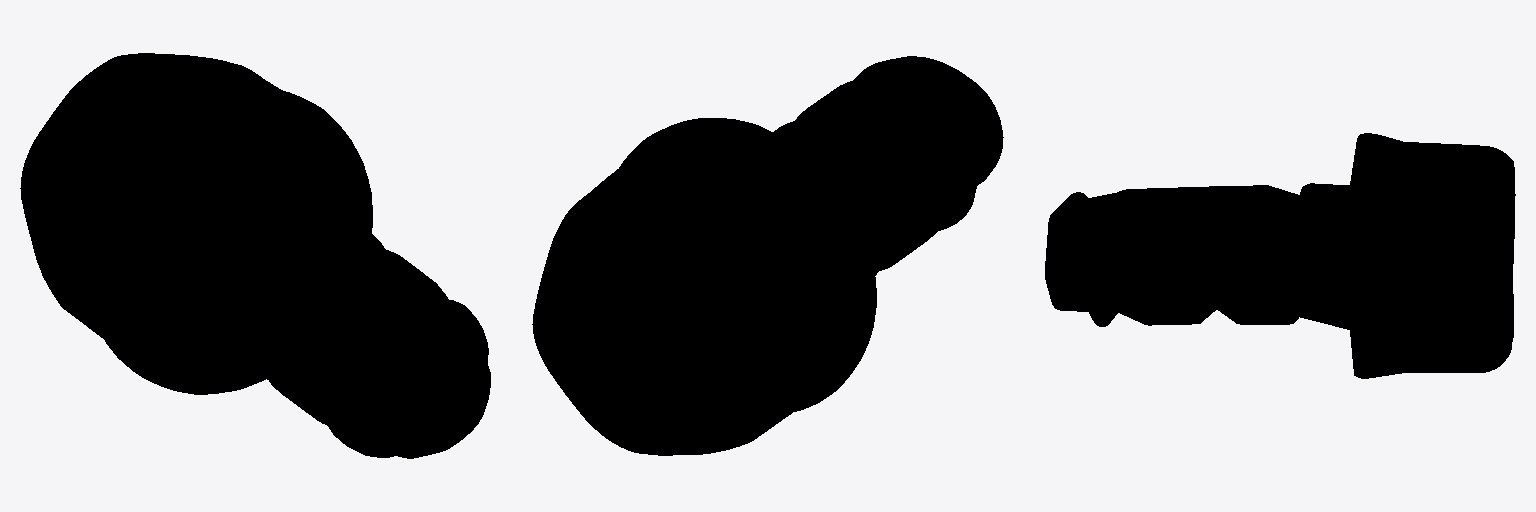
The robot description file, URDF, robot "graspnet-027":

<robot name="graspnet-027">
  <link name="link_graspnet-027">
    <inertial>
      <origin xyz="0 0 0" rpy="0 0 0"/>
    </inertial>
    <visual>
      <origin xyz="0 0 0" rpy="0 0 0"/>
      <geometry>
        <mesh filename="decomposed.obj"/>
      </geometry>
      <material name="">
        <color rgba="0 0 0 1"/>
      </material>
    </visual>
    <collision>
      <origin xyz="0 0 0" rpy="0 0 0"/>
      <geometry>
        <mesh filename="decomposed.obj"/>
      </geometry>
    </collision>
  </link>
</robot>

--- Facts derived from the render (not from the file) ---
The picture shows the robot from 3 angles, left to right: view 1: azimuth 30°, elevation 25°; view 2: azimuth 150°, elevation 25°; view 3: azimuth 270°, elevation 25°; orthographic projection.
Model graspnet-027 with 1 links and 0 joints (none), rooted at link_graspnet-027, posed all joints at 0.
Links seen in each view (by area): view 1: link_graspnet-027; view 2: link_graspnet-027; view 3: link_graspnet-027.
Link boxes in pixels (x1,y1,x2,y2): link_graspnet-027: (20,53,490,458); link_graspnet-027: (532,56,1003,455); link_graspnet-027: (1045,133,1515,378).
Bounding box of the posed robot: 0.0227 × 0.0437 × 0.0229 m (x, y, z).
1 mesh visuals loaded from 1 distinct referenced files (1 OBJ).
